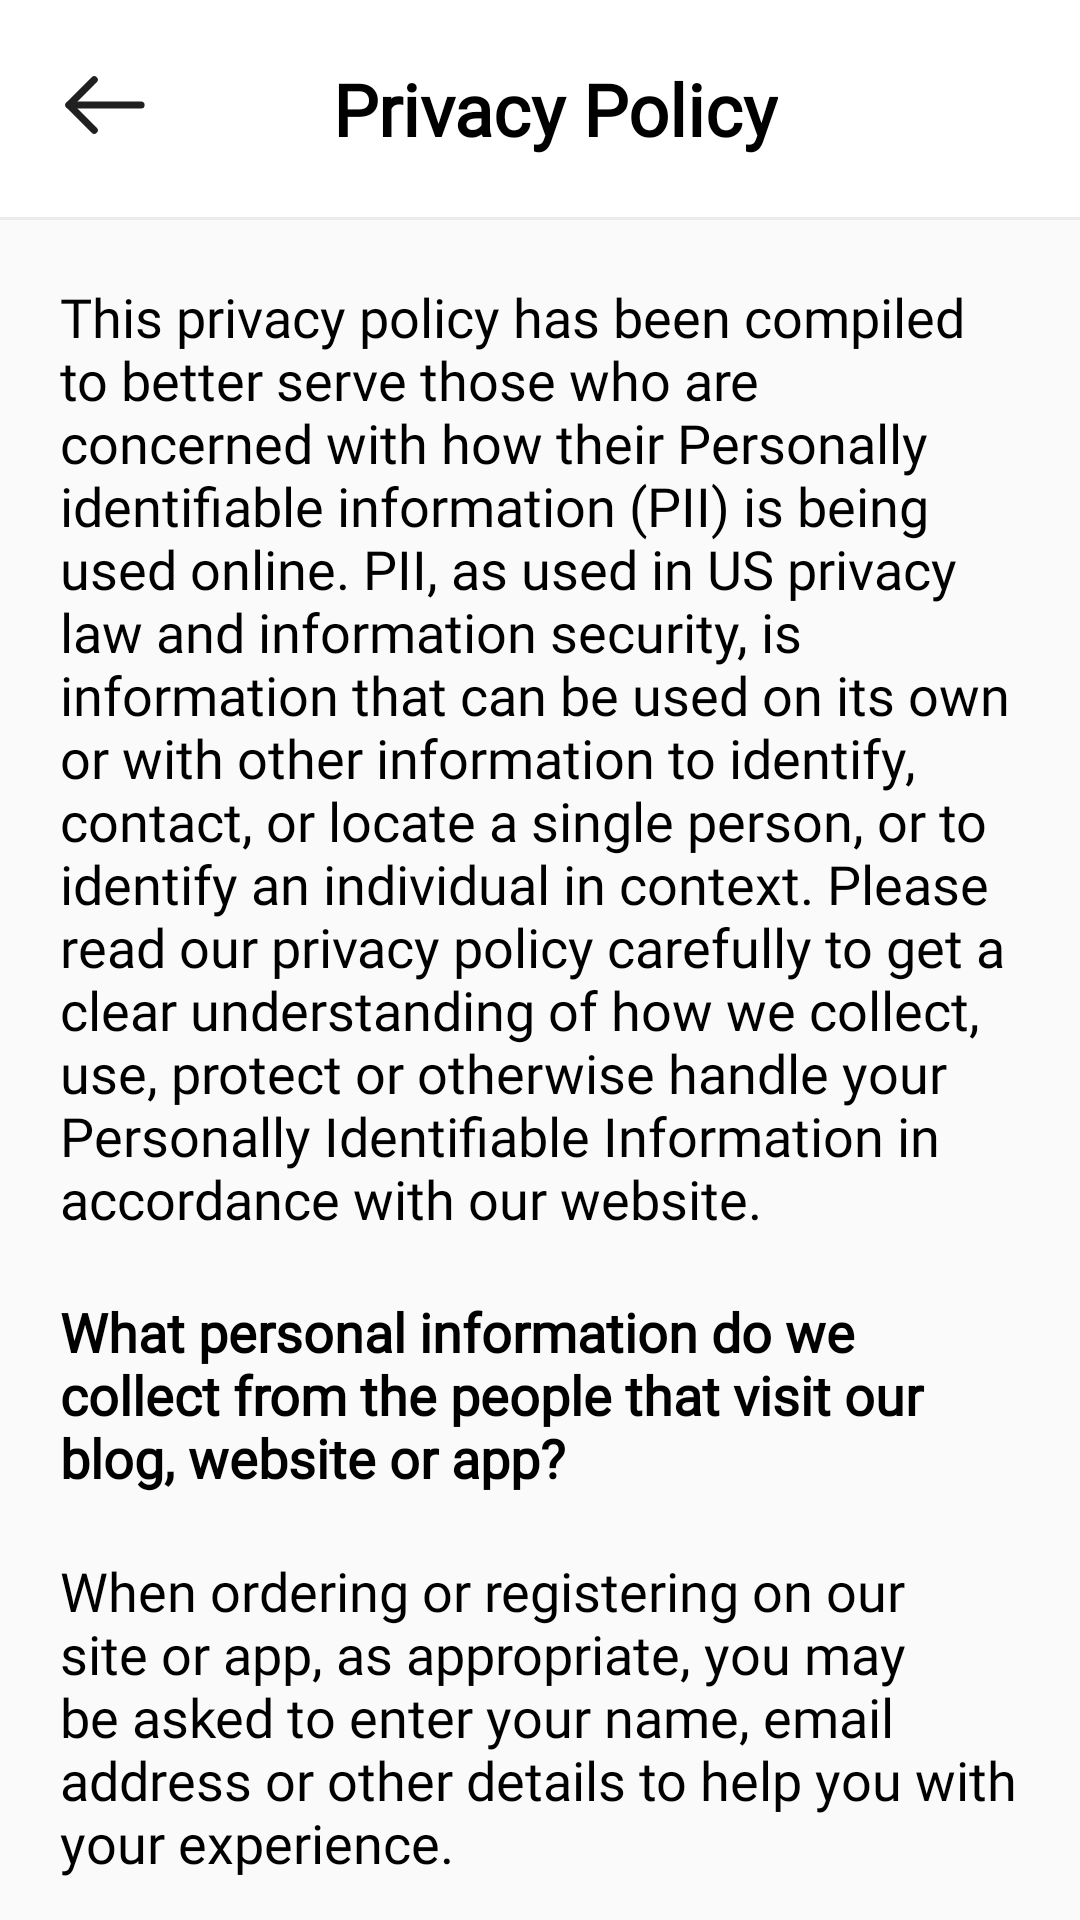

Screen size 1080px×1920px. Icon name, then its center in pixels as (x,y):
backarrow: (105,105)
